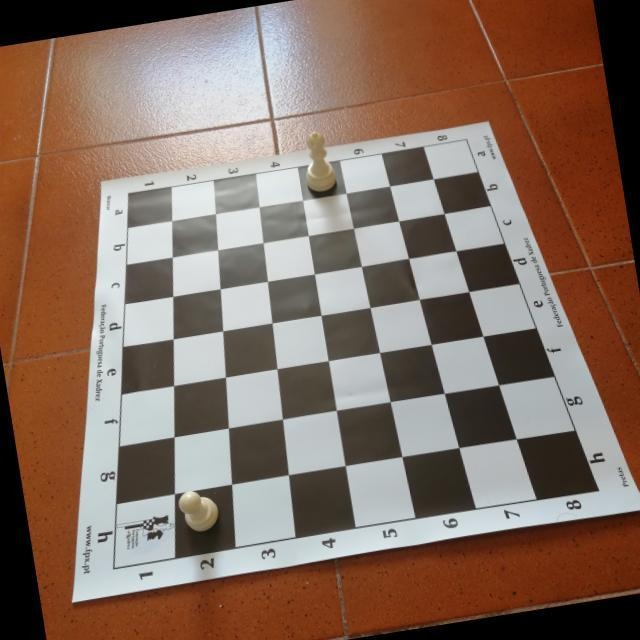white-bishop: (297, 128, 339, 195)
white-pawn: (176, 487, 222, 537)
